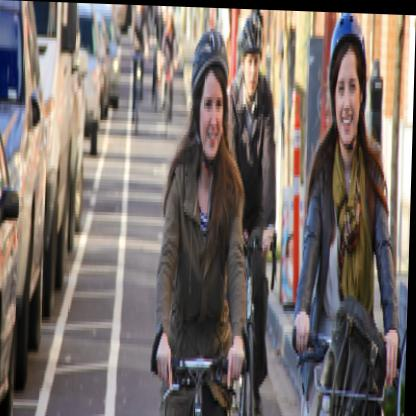With Helmet: (189, 23, 231, 161), (325, 16, 371, 142)
